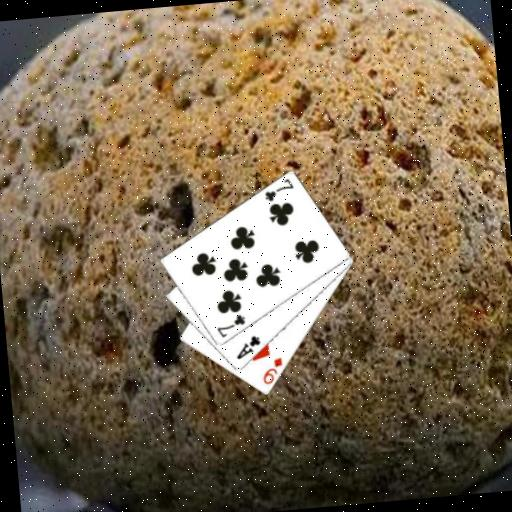7C: (260, 175, 296, 204), (213, 312, 249, 340)
9D: (258, 354, 286, 387)
AC: (232, 332, 264, 362)
